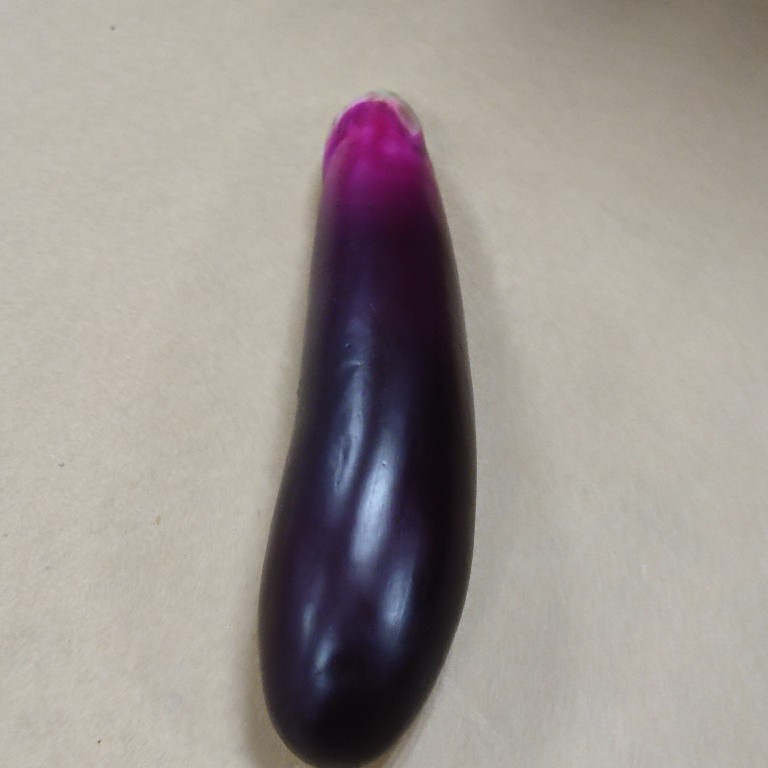fruit_eggplant: (247, 84, 485, 768)
